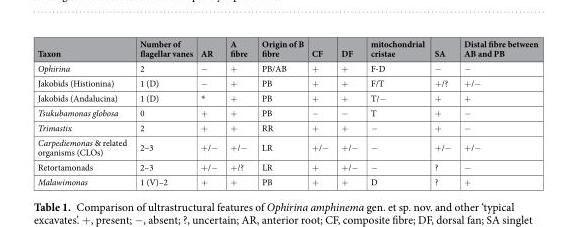table: (36, 37, 537, 187)
table column: (36, 37, 130, 187), (457, 37, 537, 187), (130, 37, 196, 187), (363, 37, 428, 187), (252, 37, 307, 187), (221, 37, 252, 187), (334, 37, 363, 187), (428, 37, 457, 187), (307, 37, 334, 187), (196, 37, 221, 187)
table column header: (36, 37, 537, 60)
table row: (36, 134, 537, 159), (36, 37, 537, 60), (36, 89, 537, 105), (36, 60, 537, 75), (36, 119, 537, 134), (36, 75, 537, 89), (36, 105, 537, 119), (36, 159, 537, 173), (36, 173, 537, 187)
